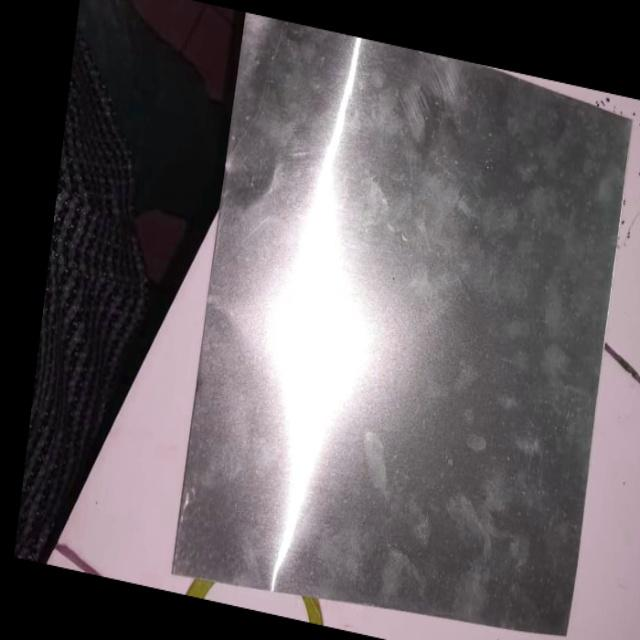TLC Plate: (172, 17, 640, 639)
